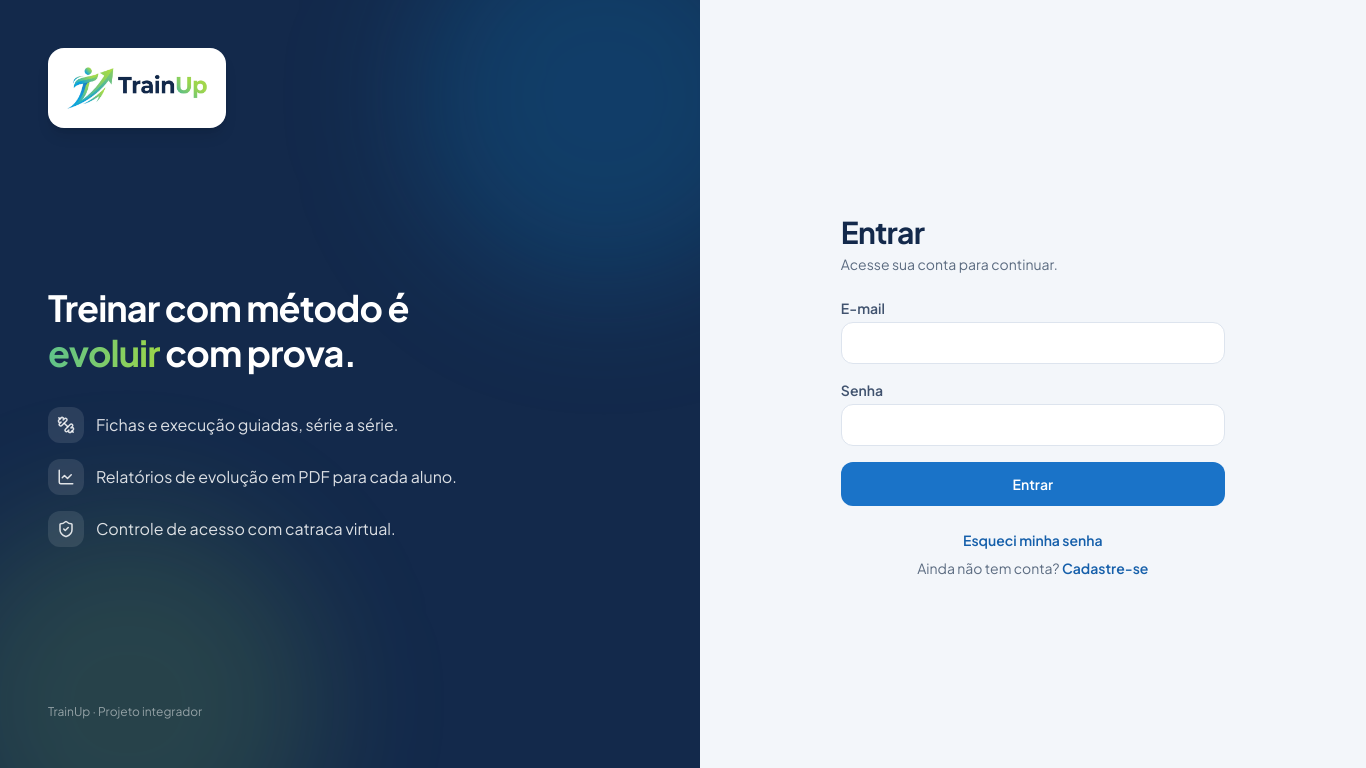
Login › exibe o erro de senha fraca vindo da validação do servidor
Click the button "Cadastre-se" at {"x": 1105, "y": 568}, box x1=1062 y1=558 x2=1148 y2=578
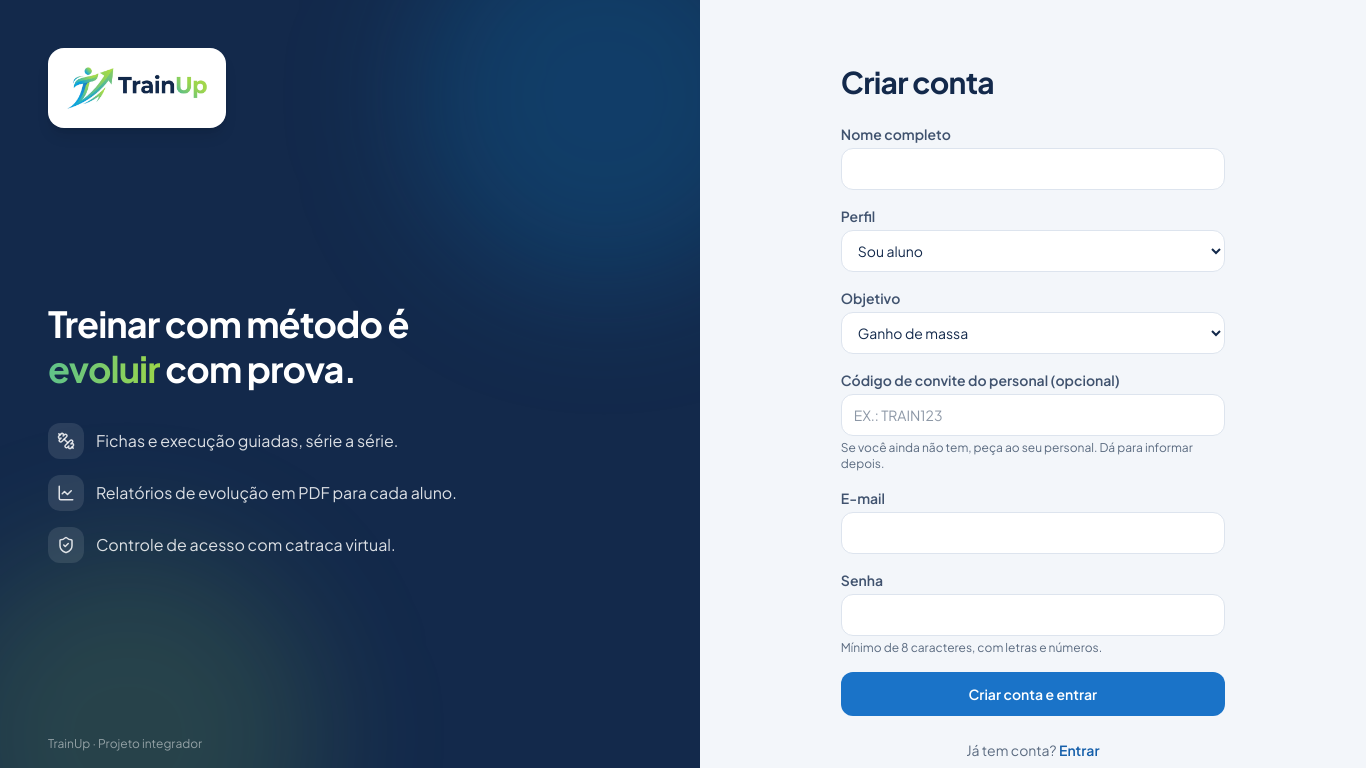
Type "Ana Clara" into the field labelled "Nome completo" at {"x": 1033, "y": 169}, box x1=841 y1=148 x2=1225 y2=190
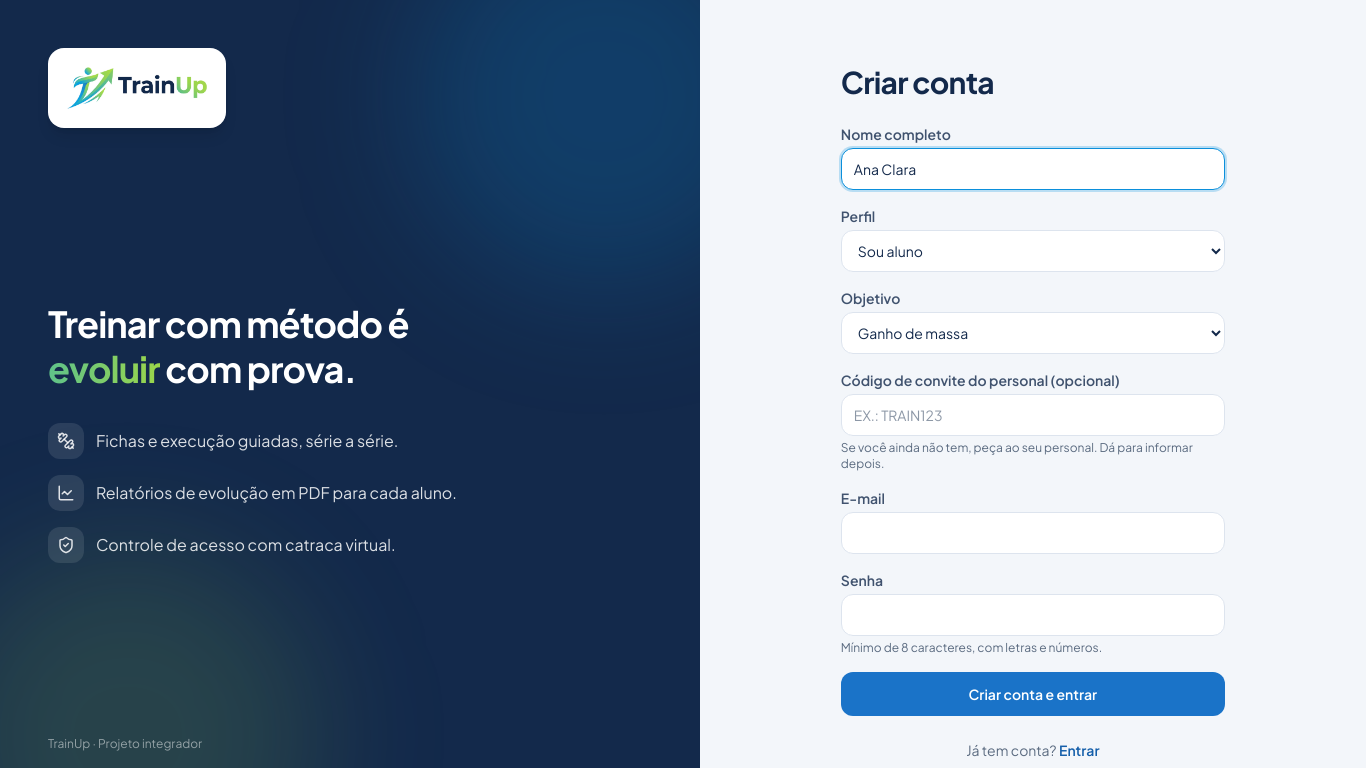
Type "ana@x.com" into the field labelled "E-mail" at {"x": 1033, "y": 533}, box x1=841 y1=512 x2=1225 y2=554
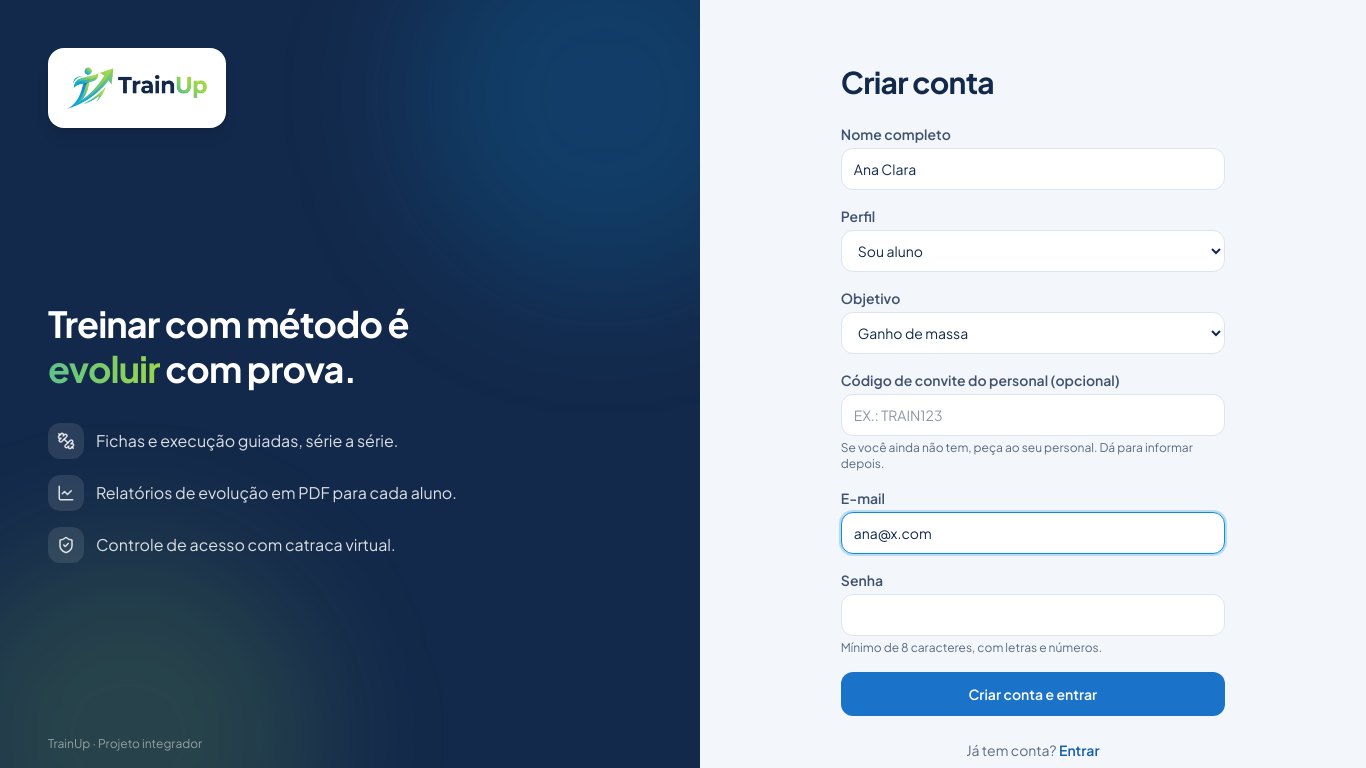
Type "12345678" into the password field labelled "Senha" at {"x": 1033, "y": 615}, box x1=841 y1=594 x2=1225 y2=636
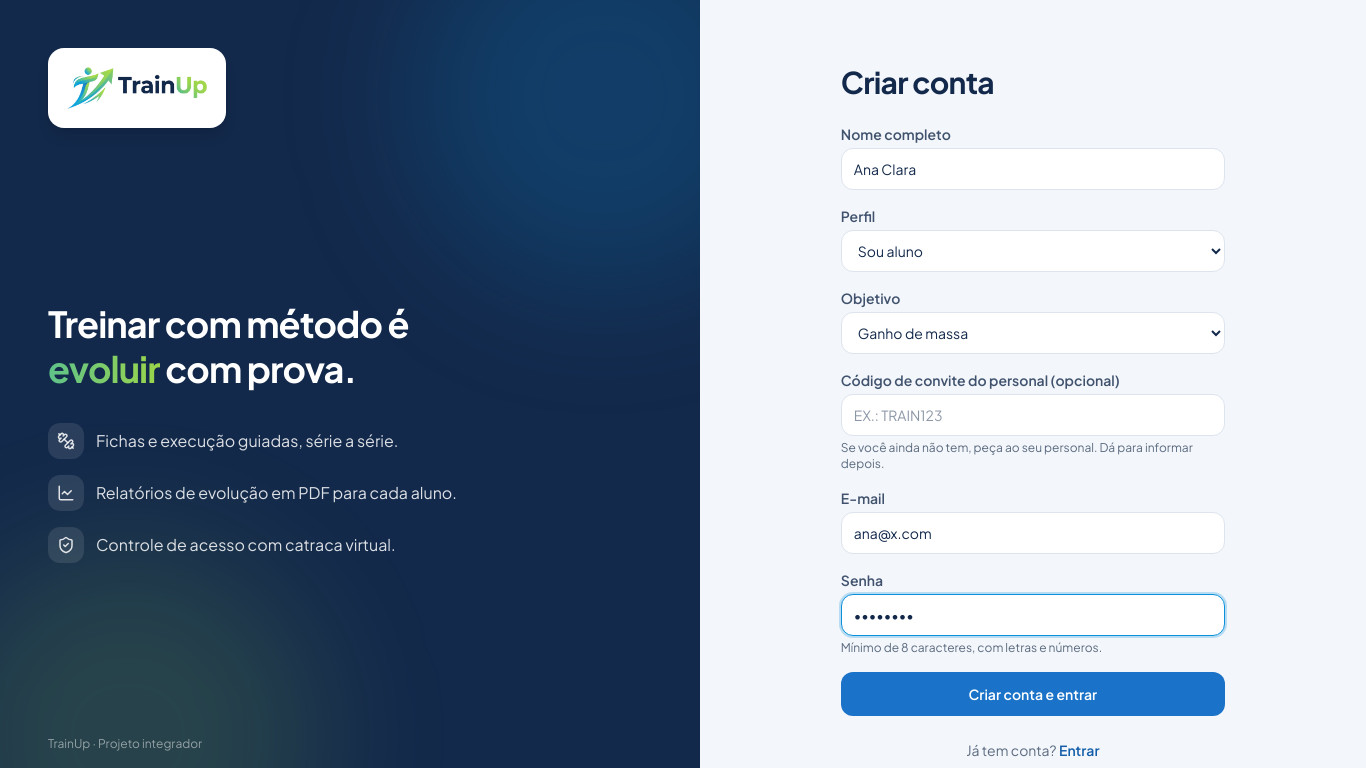
Click the button "Criar conta e entrar" at {"x": 1033, "y": 694}, box x1=841 y1=672 x2=1225 y2=716
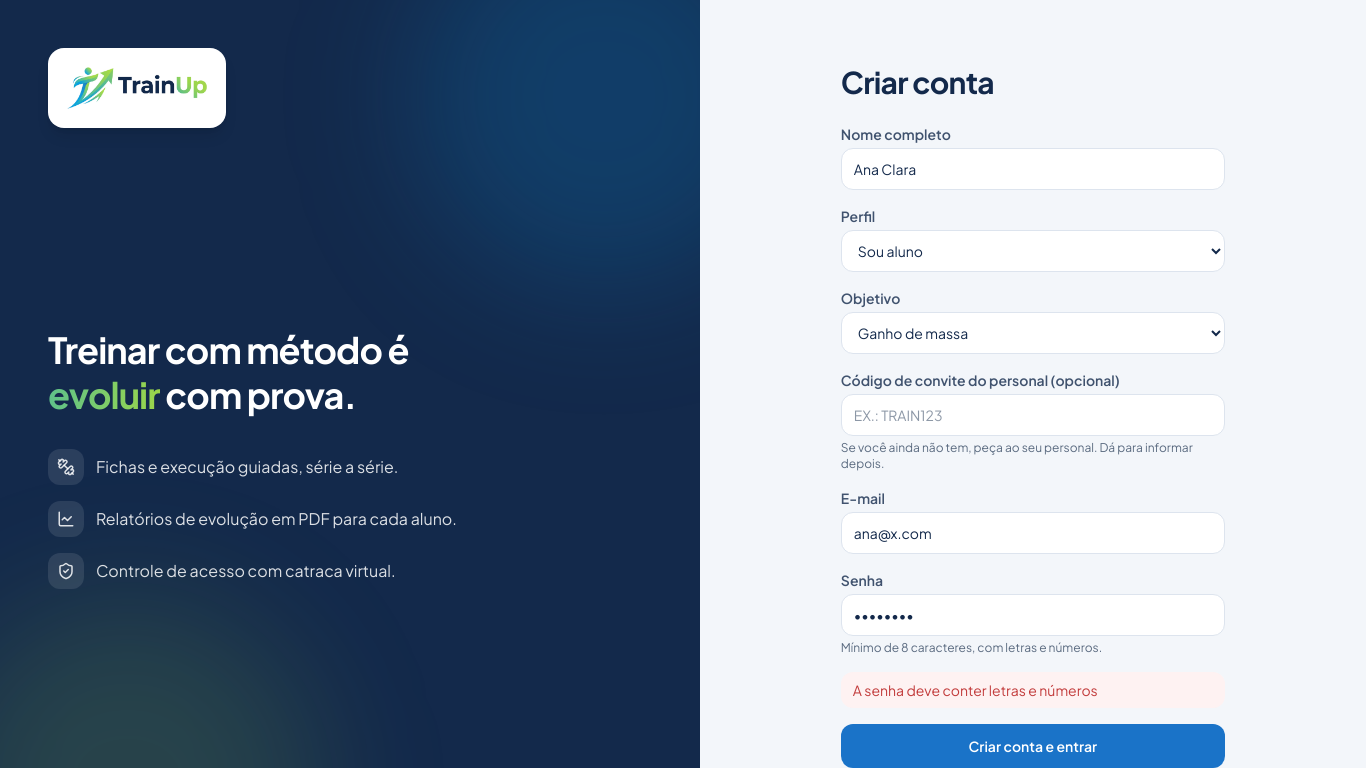
Expected: the text "A senha deve conter letras e números" is shown, x1=841 y1=672 x2=1225 y2=708
